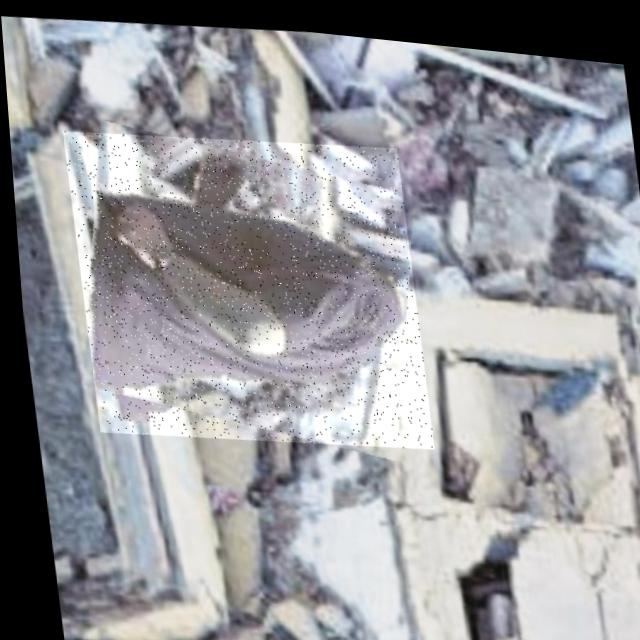Person in Rubble: (59, 112, 428, 458)
